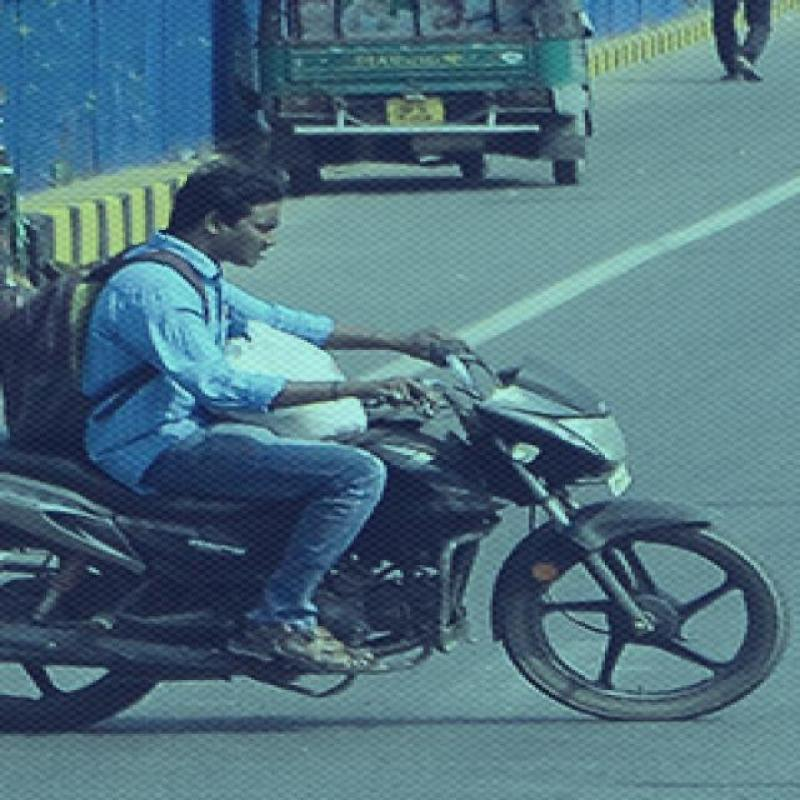nohelmet: (164, 163, 306, 285)
